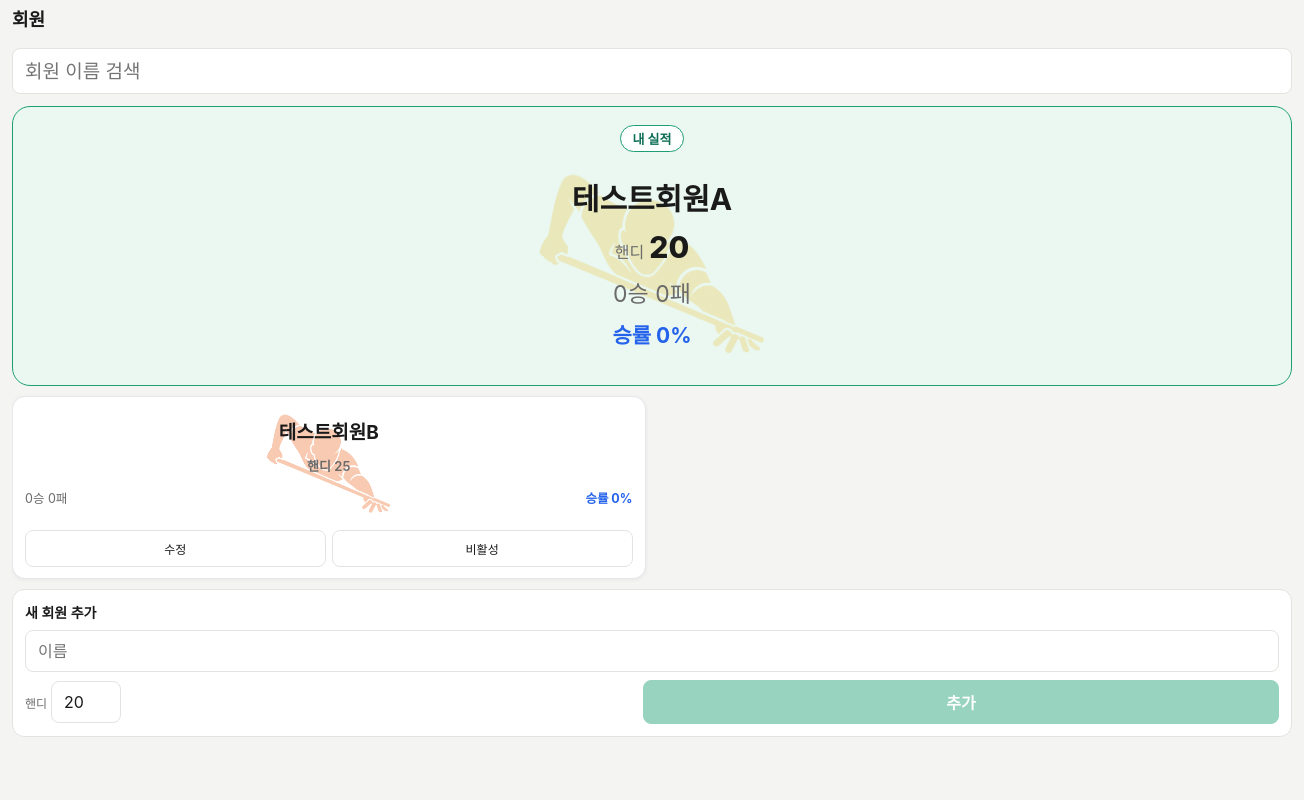
Scenario: MembersTab — 회원 변경 시 자동 서버 저장 › 회원 이름을 수정하면 서버에 올라간다
Click the button "수정": x=175, y=548 [25,530,326,567]
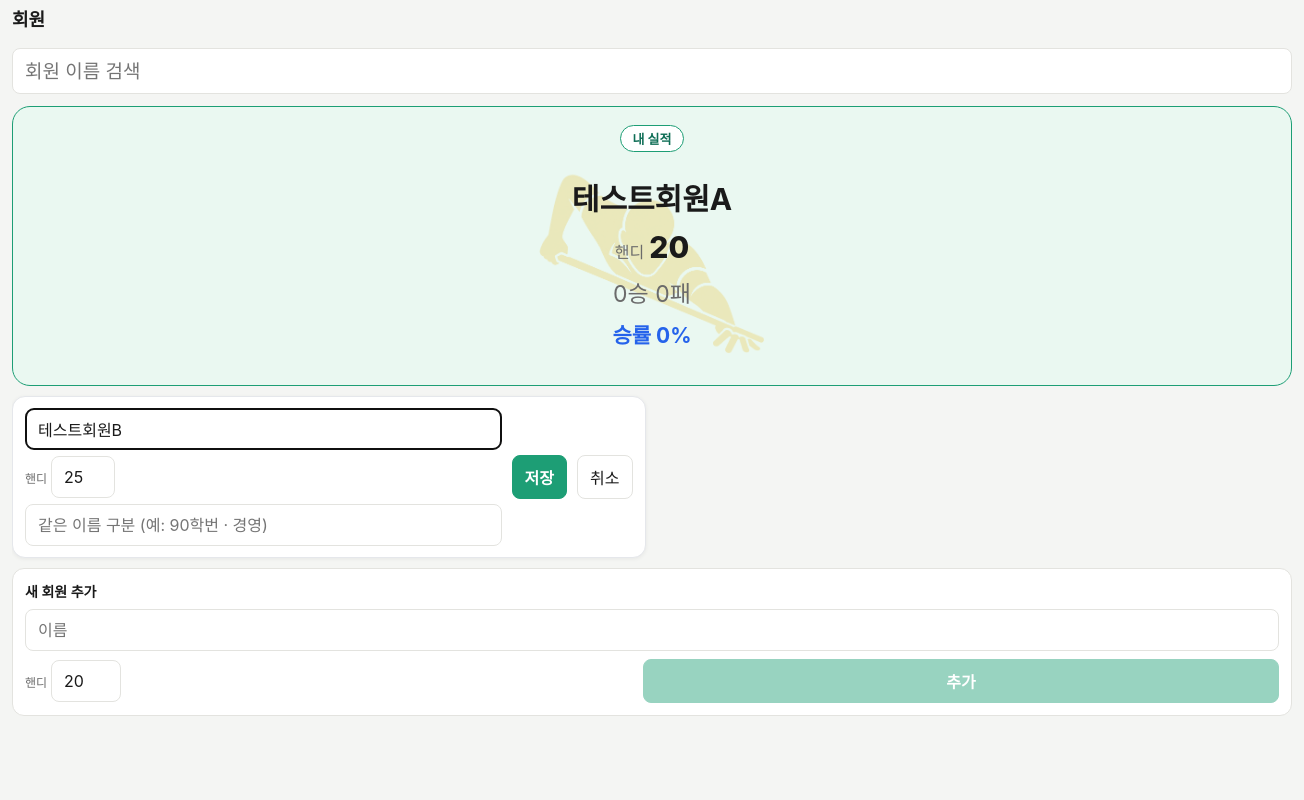
Replace the text in the field showing "테스트회원B" with "이름바꿈": x=263, y=429 [25,408,502,450]
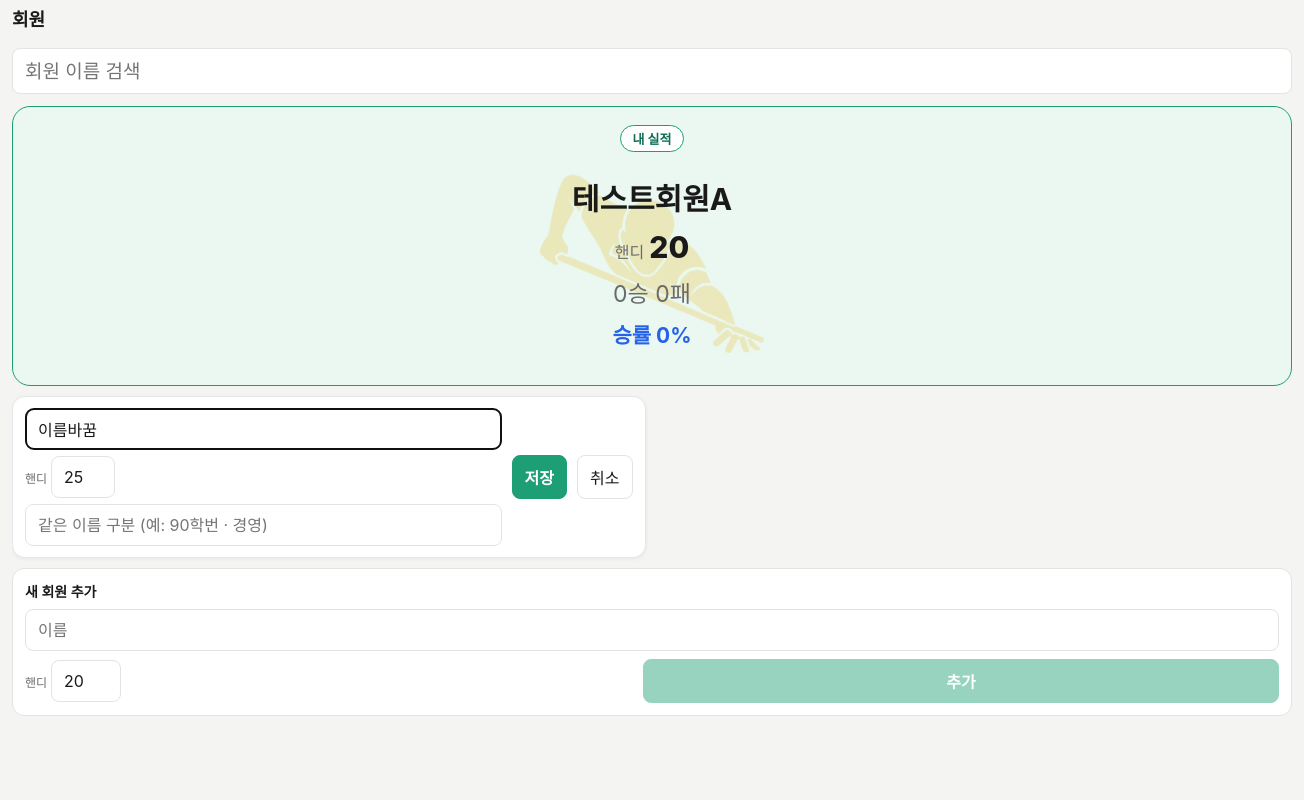
Click the button "저장": x=539, y=477 [512,455,567,499]
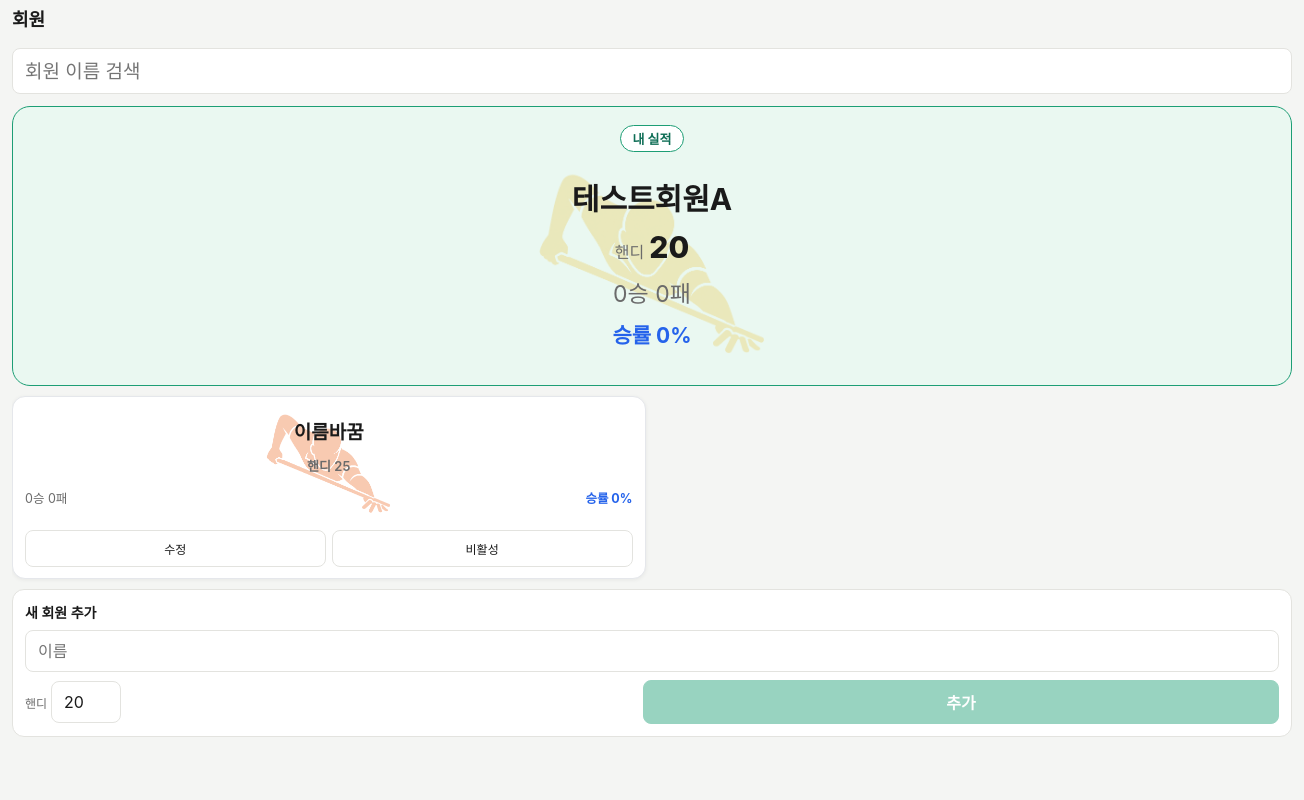
Check: the text "이름바꿈" is shown, box [294,421,364,446]
